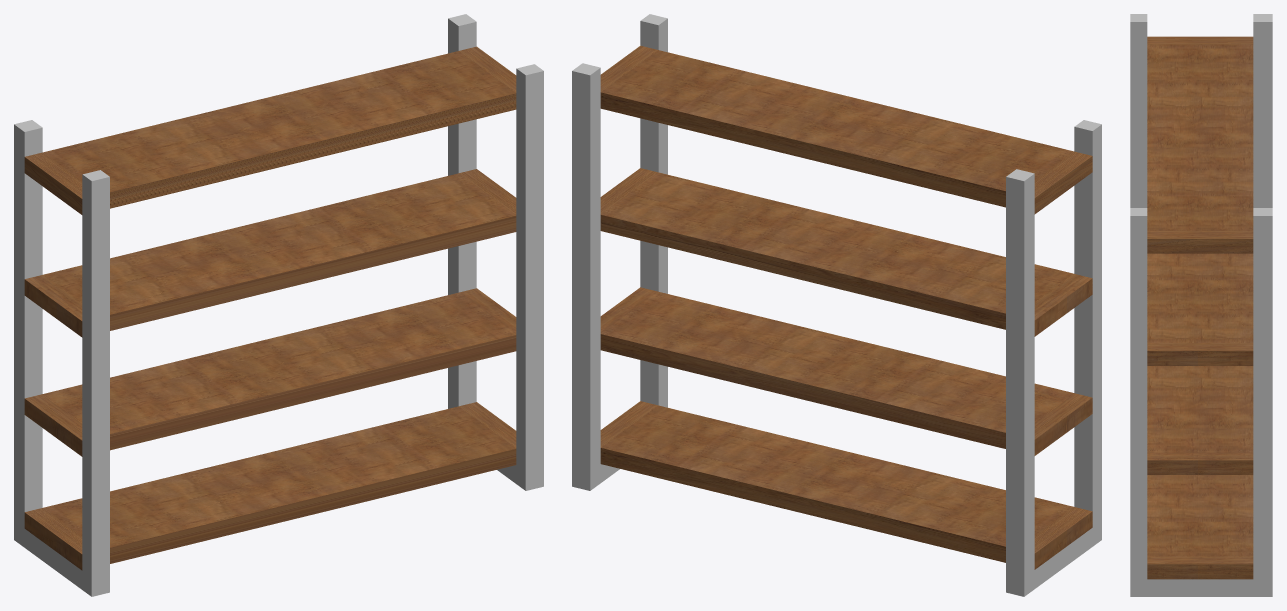
The model's file is Estante_4_MaE_MeC_G.fbx.
The picture shows the model from 3 angles, left to right: view 1: azimuth 30°, elevation 25°; view 2: azimuth 150°, elevation 25°; view 3: azimuth 270°, elevation 25°; orthographic projection. The views are drawn at different scales.
Parts seen in each view (by area): view 1: polySurface44; view 2: polySurface44; view 3: polySurface44.
Part boxes in pixels (bbox=[...]): polySurface44: bbox=[14, 14, 543, 596]; polySurface44: bbox=[572, 14, 1101, 596]; polySurface44: bbox=[1130, 14, 1272, 596].
Size of the model in its own units: 2.74 by 2.4 by 0.8151.
